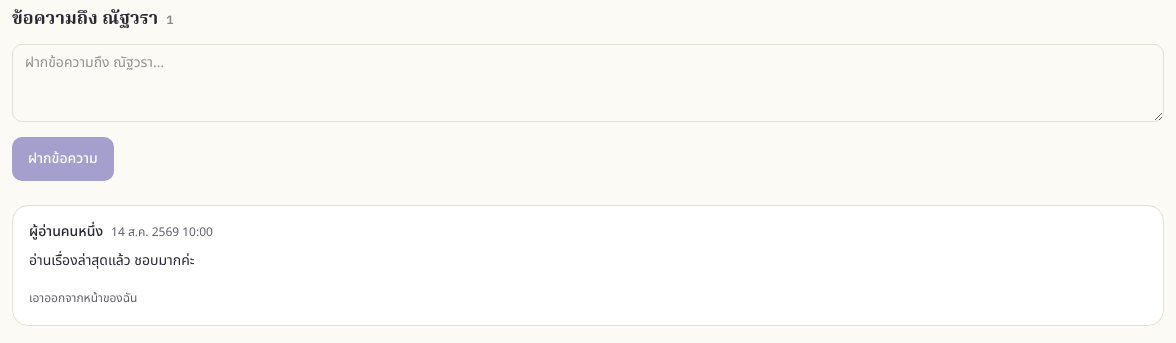
Test: the profile comment wall › lets the page's owner clear somebody else's message off their page
# Not "delete mine" - it is not theirs, it is on their page.
What coordinates should you click on to do the following:
click the button "เอาออกจากหน้าของฉัน"
I would click on:
 (83, 298)
Its box is [29, 290, 137, 306].
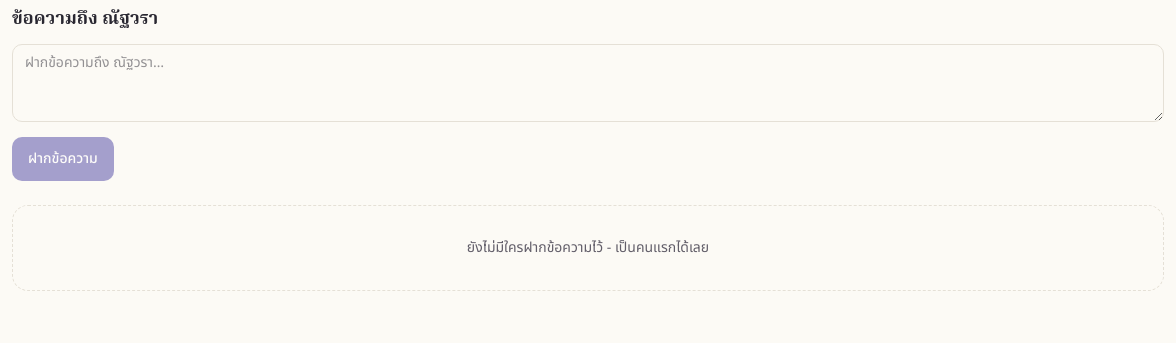
Expected: the text "อ่านเรื่องล่าสุดแล้ว ชอบมากค่ะ" is gone
Expected: the text "ยังไม่มีใครฝากข้อความไว้ - เป็นคนแรกได้เลย" is shown, [12, 205, 1164, 291]
